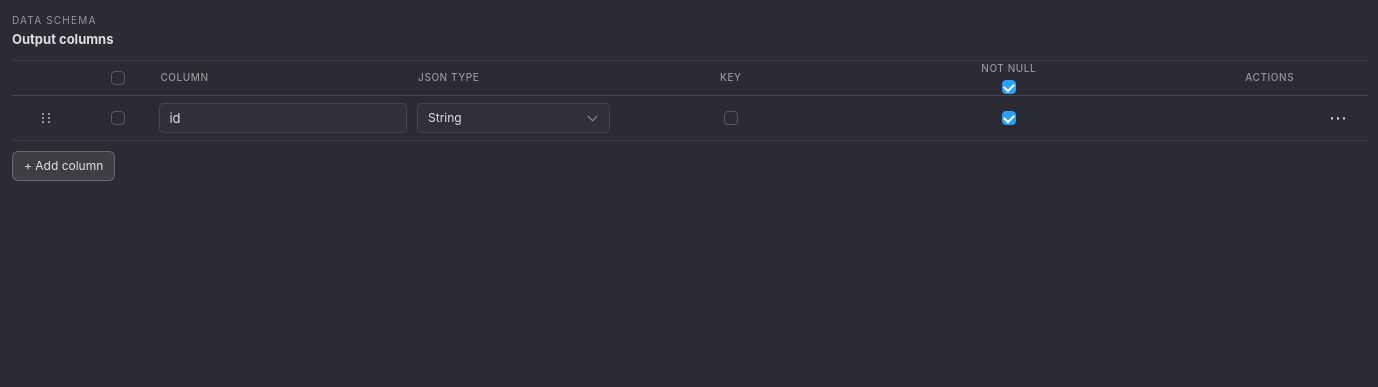
schema form › does not offer decimal in the JSON type column
Click the button with class "select-trigger".
click(514, 118)  # box [417, 103, 610, 133]
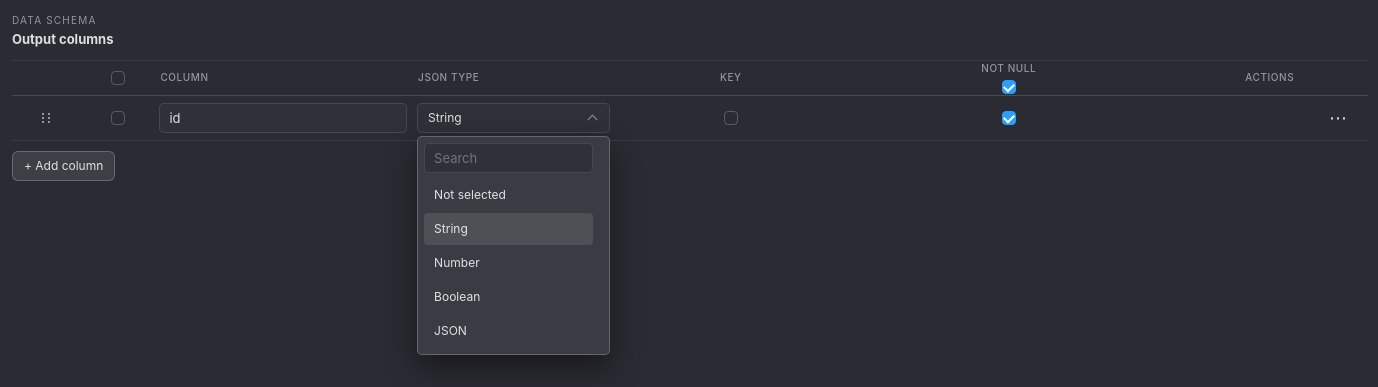
Now the option "Number" is shown, box [424, 247, 594, 279]
